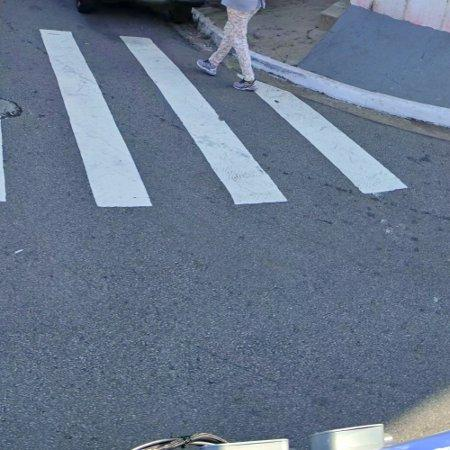crosswalks: (0, 26, 413, 208)
